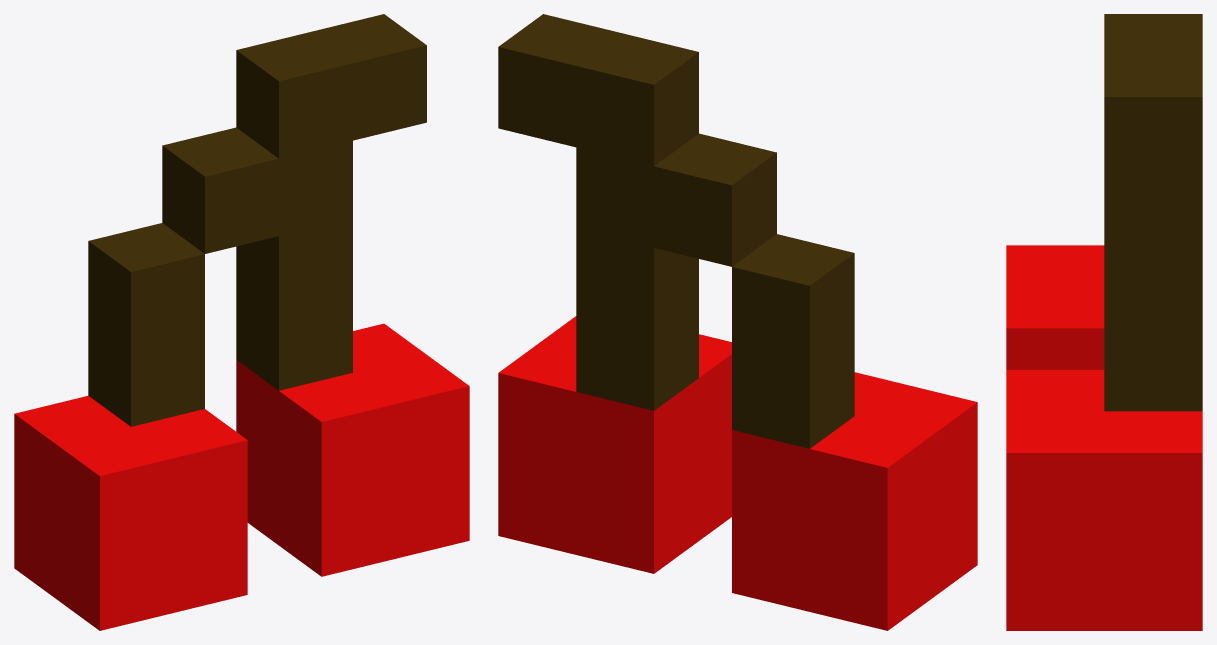
The model's file is item_cherry.fbx.
The picture shows the model from 3 angles, left to right: view 1: azimuth 30°, elevation 25°; view 2: azimuth 150°, elevation 25°; view 3: azimuth 270°, elevation 25°; orthographic projection. The views are drawn at different scales.
Visible parts, largest first — view 1: item_cherry; view 2: item_cherry; view 3: item_cherry.
Part boxes in pixels (x1,y1,x2,y2): item_cherry: (14, 14, 469, 630); item_cherry: (498, 14, 977, 630); item_cherry: (1006, 14, 1202, 630).
Size of the model in its own units: 5 by 6 by 2.
